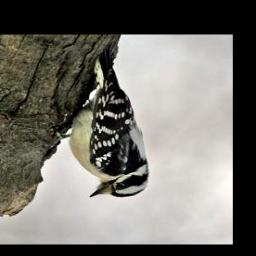Woodpecker: (42, 40, 152, 202)
